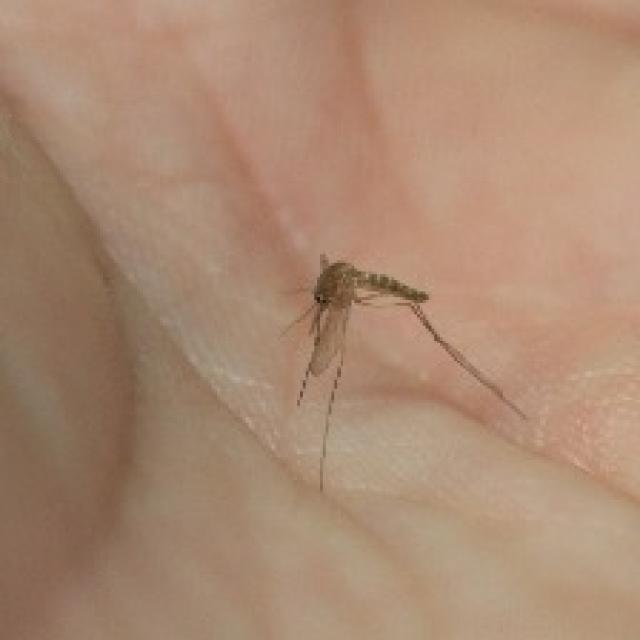culex: (277, 248, 526, 492)
